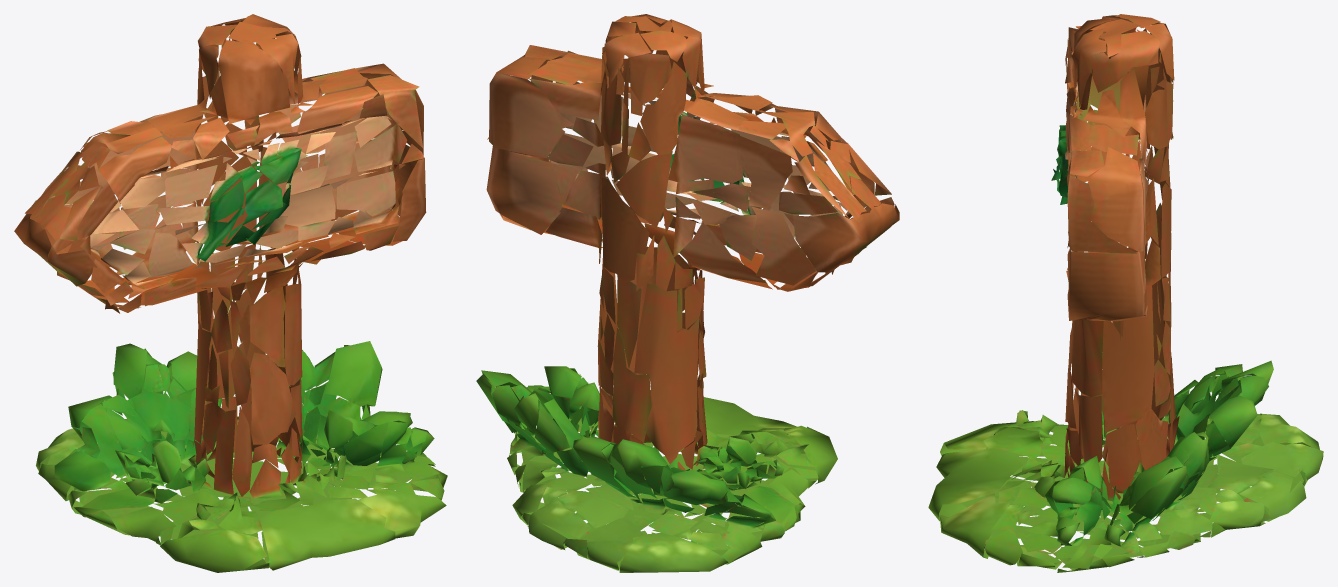
The model's file is sign.glb.
3 renders of one model, left to right at view 1: azimuth 30°, elevation 25°; view 2: azimuth 150°, elevation 25°; view 3: azimuth 270°, elevation 25°, orthographic. The views are drawn at different scales.
Parts seen in each view (by area): view 1: Mesh_0; view 2: Mesh_0; view 3: Mesh_0.
Part boxes in pixels (x1=…): Mesh_0: x1=14, y1=14, x2=447, y2=572; Mesh_0: x1=476, y1=14, x2=899, y2=572; Mesh_0: x1=928, y1=14, x2=1323, y2=572.
Bounding box in the file's own units: 1.66 × 1.92 × 1.45.
Materials: 1 (1 with a texture image).
